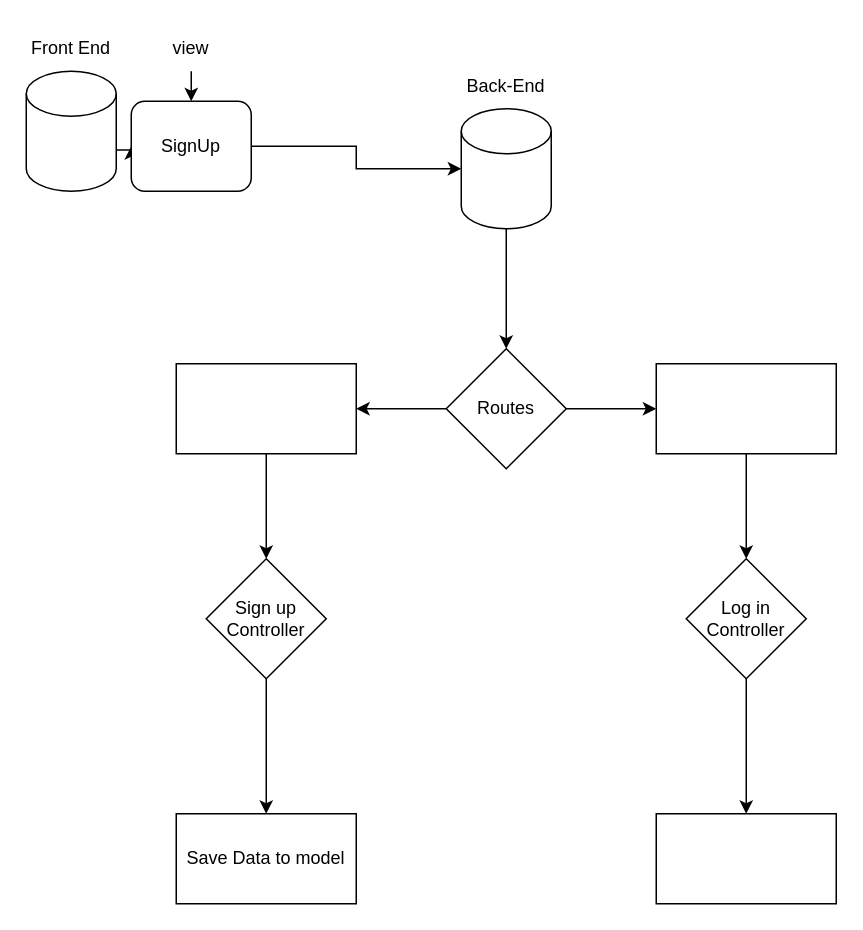
Some shapes in this 863 by 930 pixel diagram are drawn without their labels. Here are the shapes that lost their labels. From the top down, the centre of each, then its label:
At pixel 265 408: "/signup".
At pixel 745 408: "/login".
At pixel 745 858: "Retrieve Data from table and Authenticate user".
